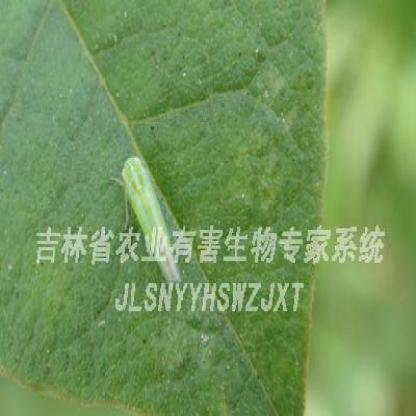Green-Leafhopper: (107, 153, 186, 292)
